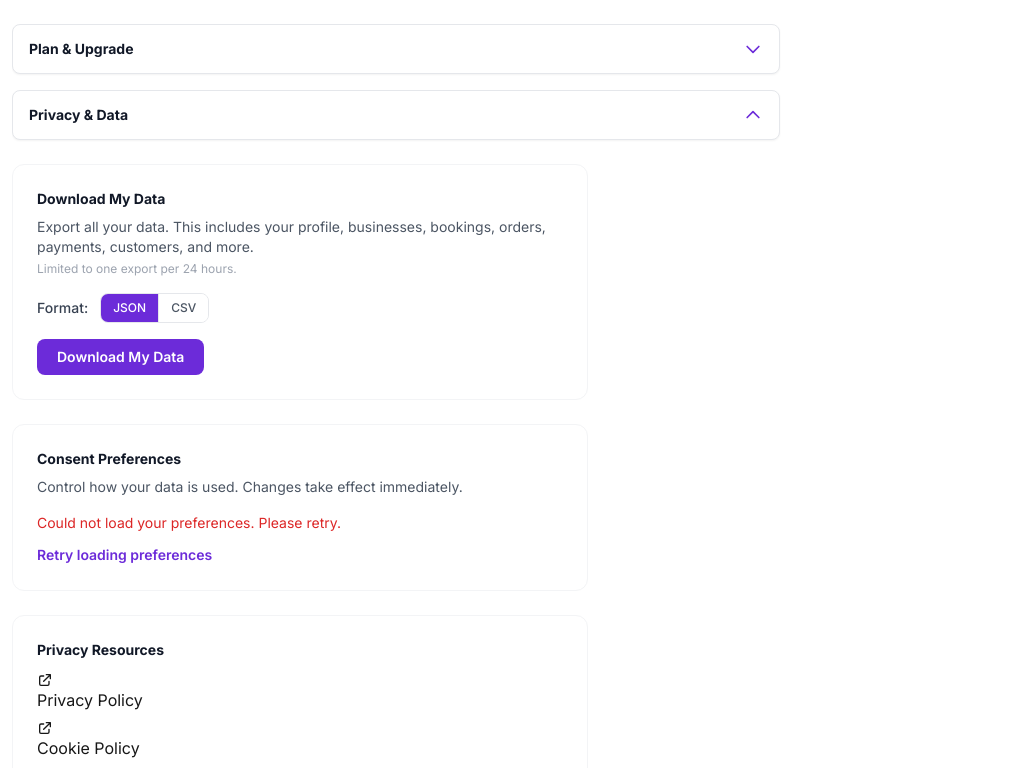
Test: W27 rendered AccountTab with actual consent GET/POST › shows http load failure without editable defaults, then retries
Check: the message "Could not load your preferences. Please retry." is shown, box [37,514,341,531]
Check: the button "Save Preferences" is not shown
Click the button "Retry loading preferences". click: (125, 555)
box: [37,545,212,565]
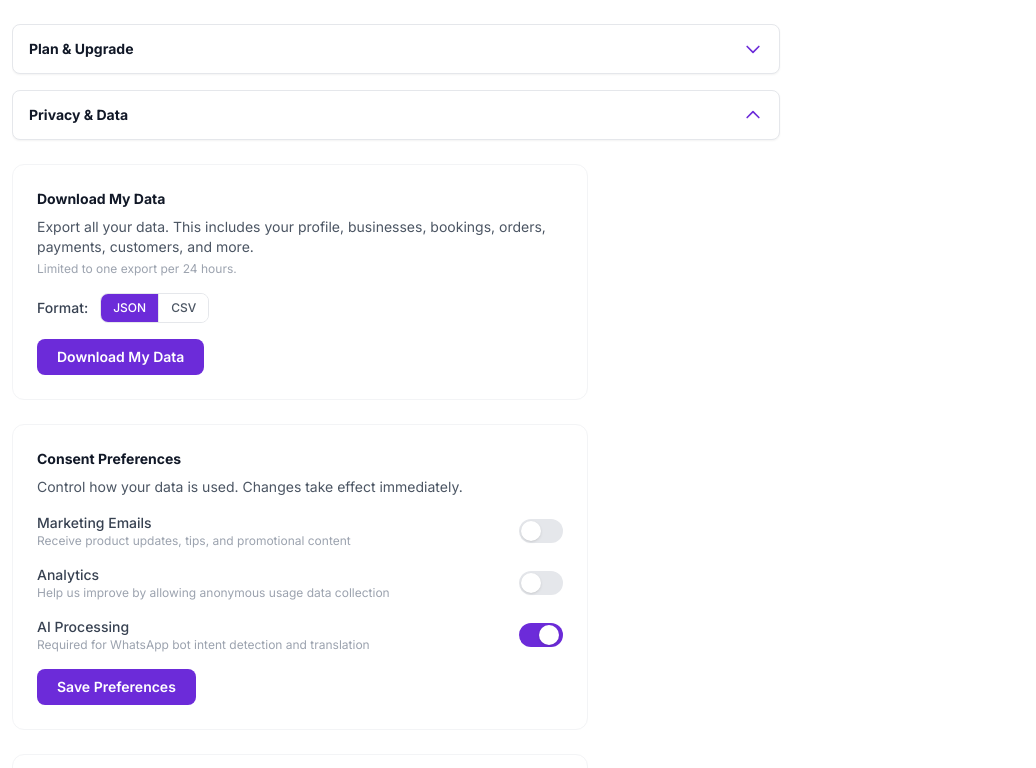
Check: the button "Save Preferences" is shown, box [37,669,196,705]
Check: the message "Could not load your preferences. Please retry." is gone
